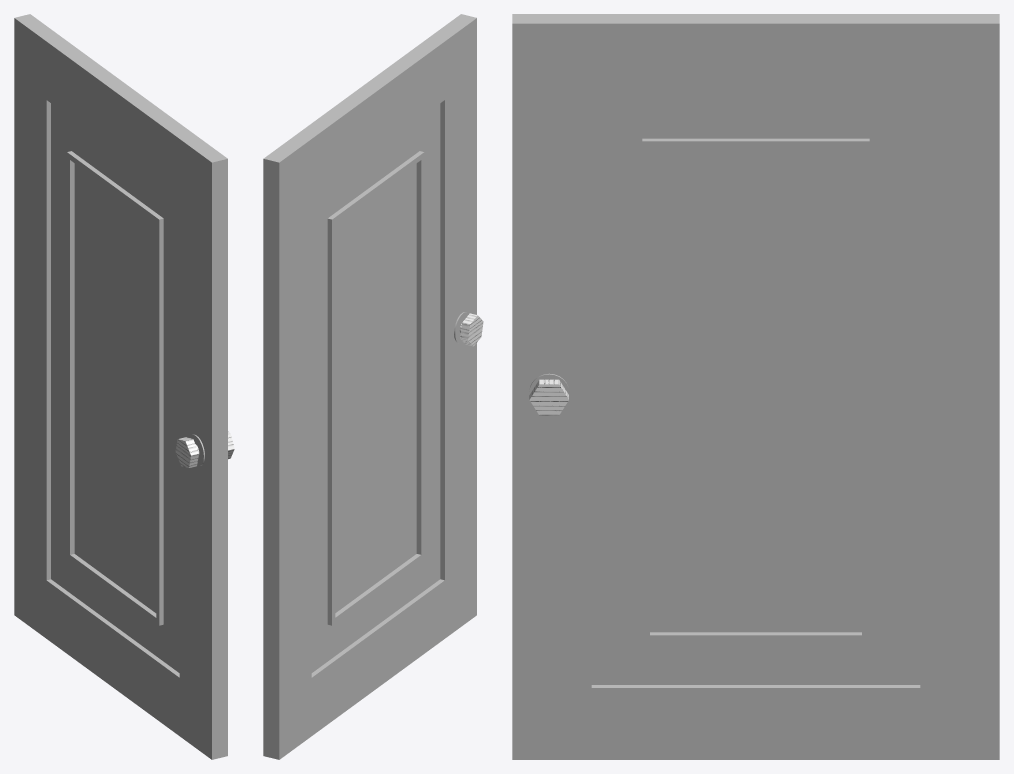
The model's file is Door.dae.
The picture shows the model from 3 angles, left to right: view 1: azimuth 30°, elevation 25°; view 2: azimuth 150°, elevation 25°; view 3: azimuth 270°, elevation 25°; orthographic projection. The views are drawn at different scales.
Parts seen in each view (by area): view 1: SketchUp (×5); view 2: SketchUp (×5); view 3: SketchUp (×5).
Boxes of the visible parts, x1,y1,x2,y2 form: SketchUp (×5): (14, 14, 227, 759); SketchUp (×5): (263, 14, 483, 759); SketchUp (×5): (512, 14, 999, 759).
Bounding box in the file's own units: 7.48 × 59.06 × 98.43.
